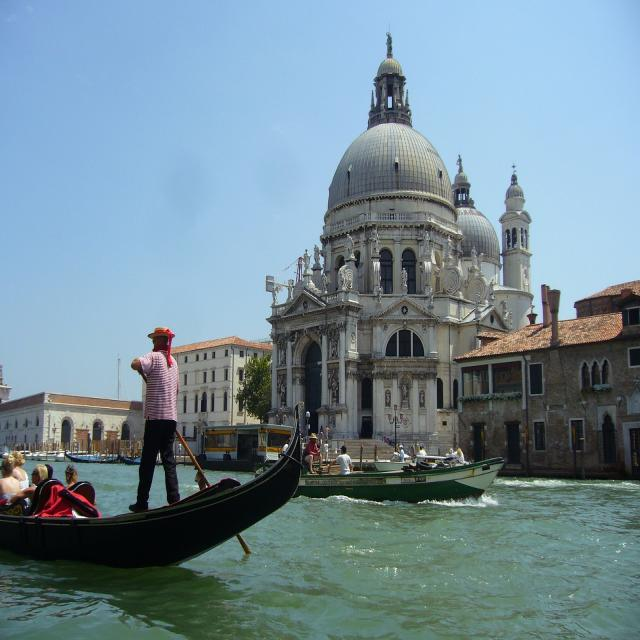boat: (0, 404, 310, 604), (268, 434, 515, 518)
